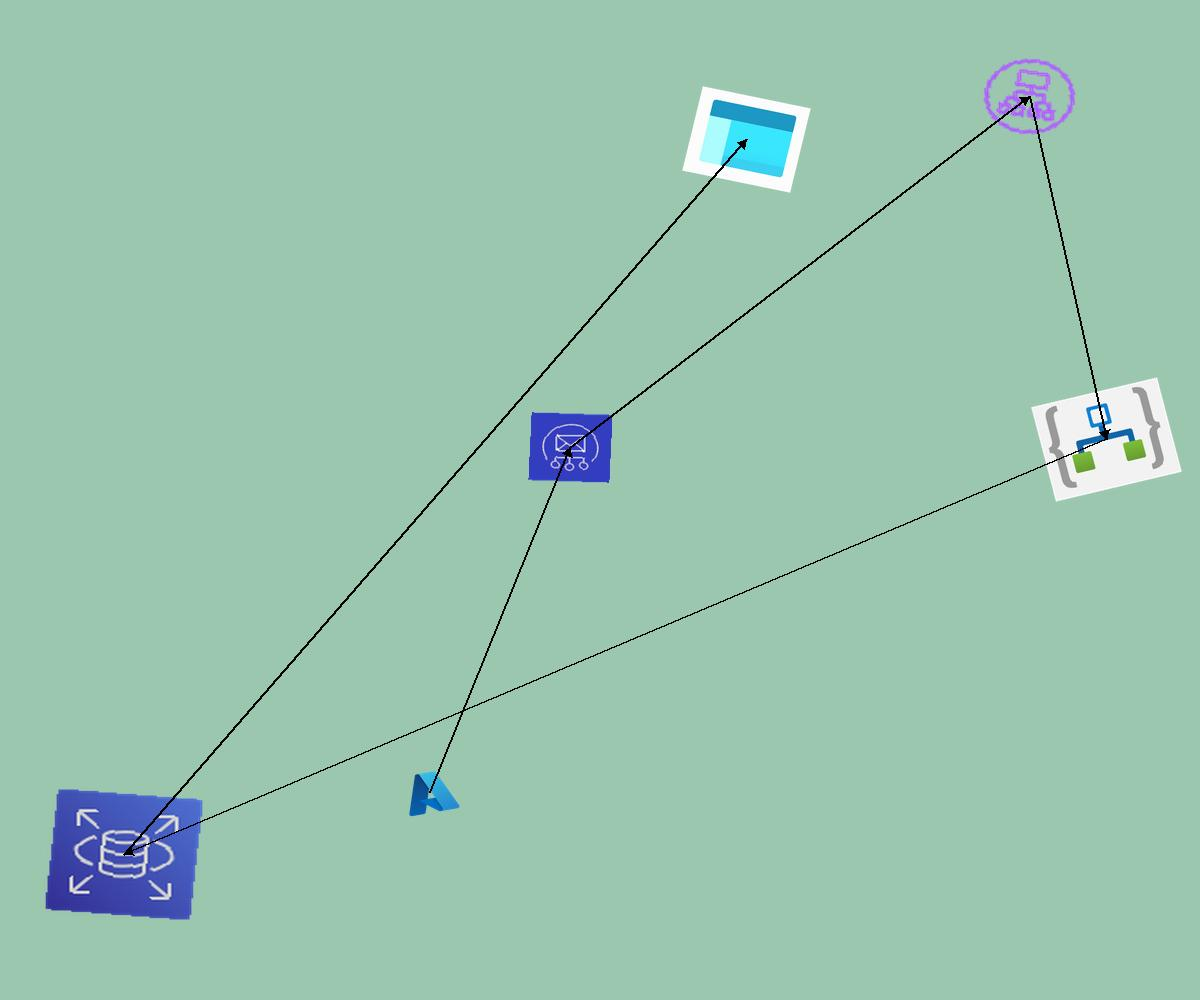AWS-RDS: (44, 788, 204, 921)
AWS-Res_Elastic-Load-Balancing_Application-Load-Balancer: (972, 49, 1087, 144)
AWS-Simple-Email-Service: (528, 412, 613, 483)
Azure_integration-204-Logic-Apps: (1031, 377, 1182, 502)
Azure_management-portal: (682, 86, 811, 193)
Azure_services: (397, 765, 463, 820)
